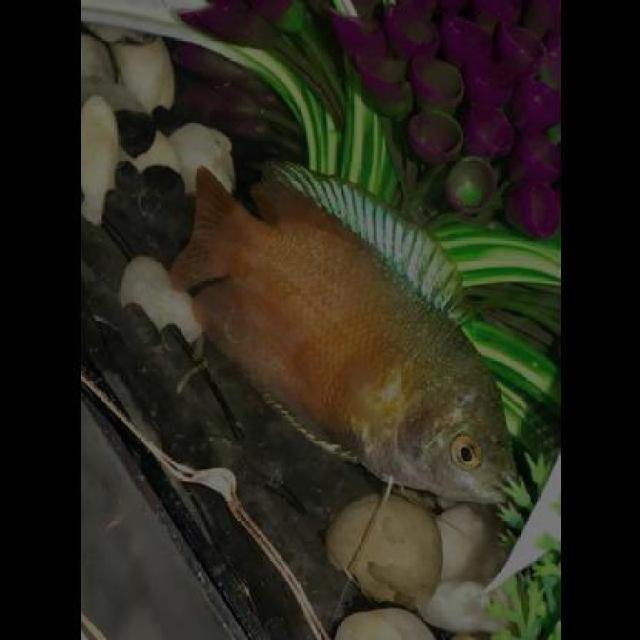Gourami: (153, 158, 524, 522)
